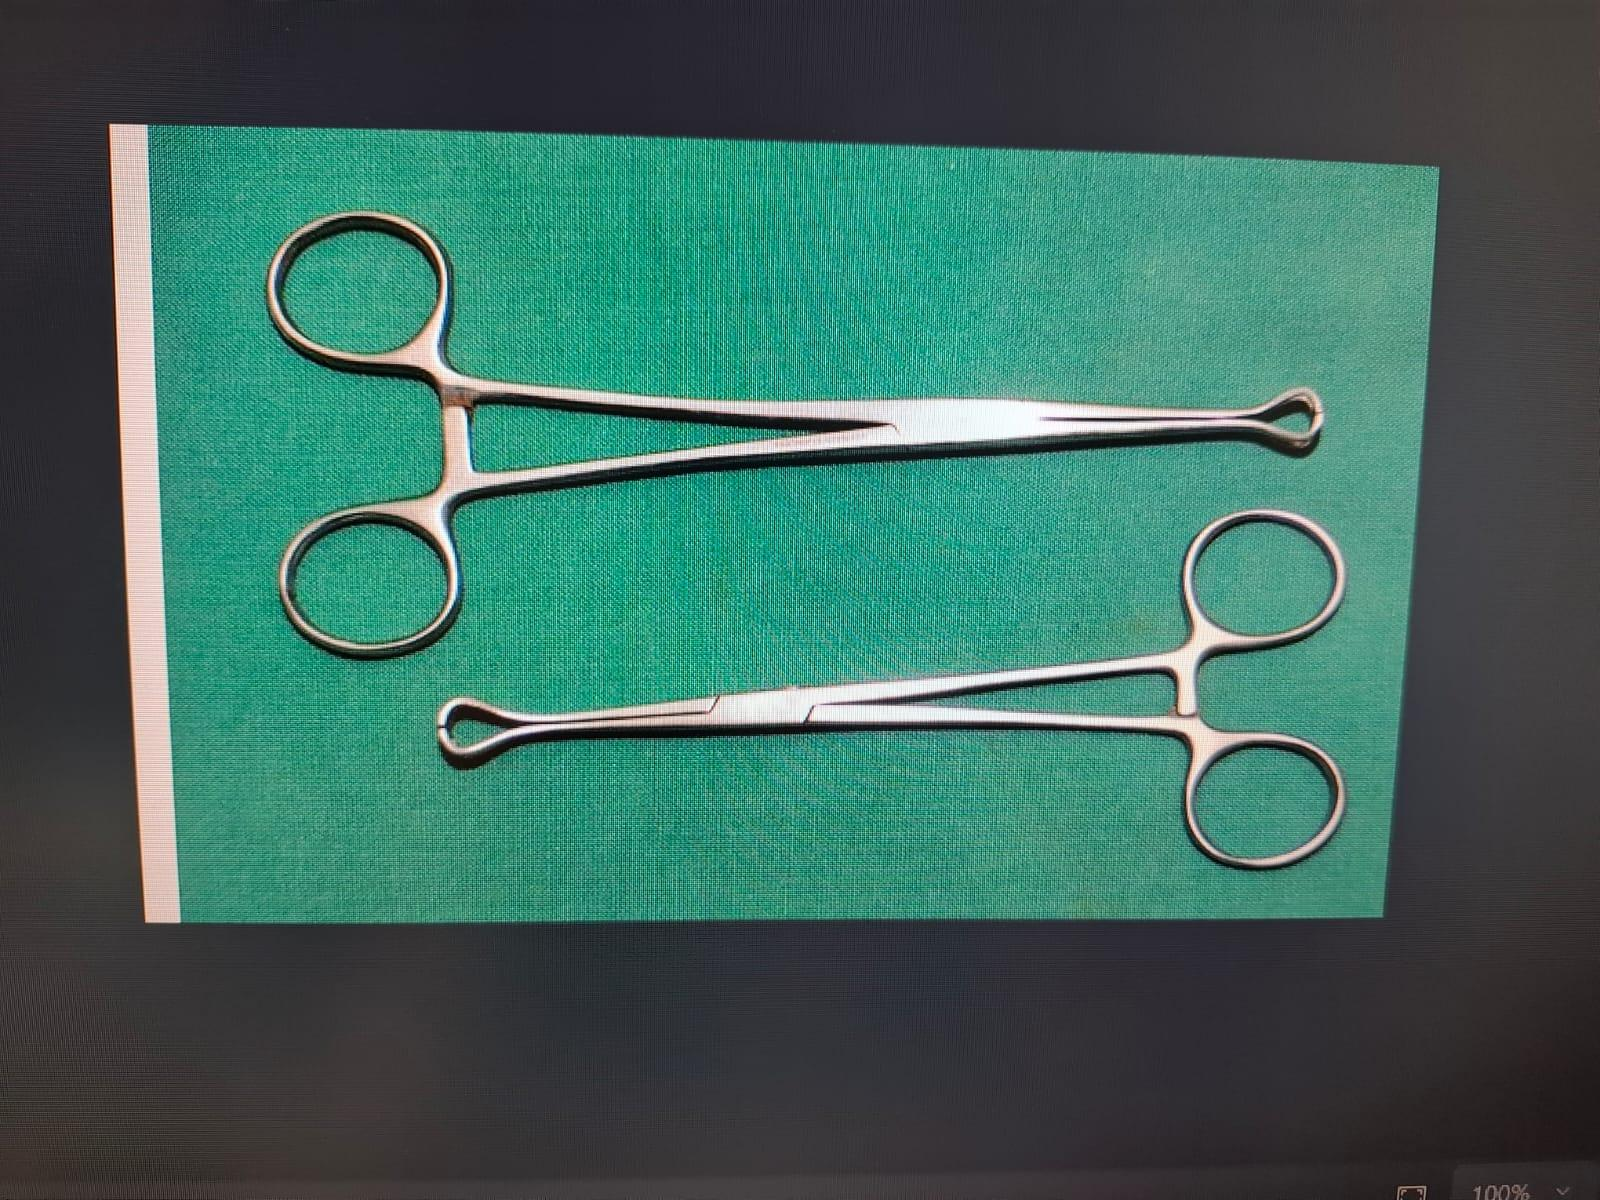Babcock Forceps: (256, 195, 1338, 671), (422, 500, 1368, 886)
